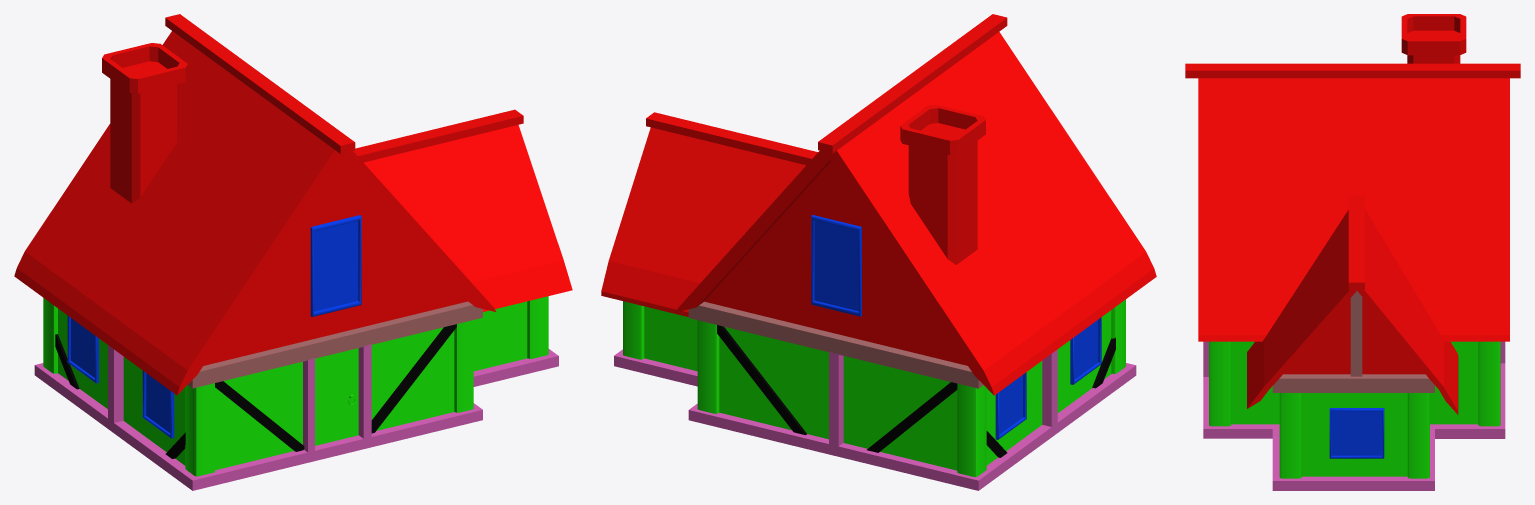
The model's file is House3.FBX.
The picture shows the model from 3 angles, left to right: view 1: azimuth 30°, elevation 25°; view 2: azimuth 150°, elevation 25°; view 3: azimuth 270°, elevation 25°; orthographic projection. The views are drawn at different scales.
Parts seen in each view (by area): view 1: HouseRoof, HouseFrame, Woodwork(Bottom), Windows, WoodWork(Top), Planks(Outside); view 2: HouseRoof, HouseFrame, Woodwork(Bottom), Windows, WoodWork(Top), Planks(Outside); view 3: HouseRoof, HouseFrame, Woodwork(Bottom), WoodWork(Top), Windows.
Boxes of the visible parts, left/top/right/bottom form: HouseRoof: left=14, top=14, right=572, bottom=395; HouseFrame: left=43, top=296, right=548, bottom=476; Woodwork(Bottom): left=34, top=344, right=558, bottom=490; Windows: left=67, top=215, right=361, bottom=438; WoodWork(Top): left=188, top=301, right=482, bottom=388; Planks(Outside): left=55, top=324, right=456, bottom=458; HouseRoof: left=601, top=14, right=1156, bottom=395; HouseFrame: left=623, top=299, right=1125, bottom=477; Woodwork(Bottom): left=614, top=349, right=1136, bottom=490; Windows: left=811, top=215, right=1101, bottom=439; WoodWork(Top): left=688, top=301, right=983, bottom=388; Planks(Outside): left=717, top=325, right=1115, bottom=457; HouseRoof: left=1185, top=14, right=1520, bottom=414; HouseFrame: left=1209, top=341, right=1500, bottom=478; Woodwork(Bottom): left=1203, top=341, right=1505, bottom=490; WoodWork(Top): left=1272, top=291, right=1434, bottom=392; Windows: left=1329, top=408, right=1384, bottom=458.
Size of the model in its own units: 810 by 590 by 579.
